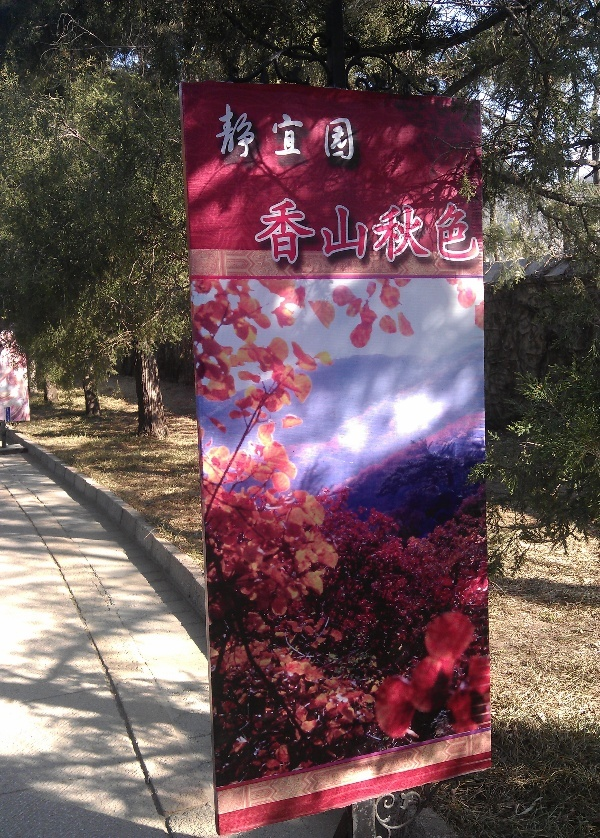text: (257, 197, 272, 266), (273, 197, 288, 266), (289, 197, 304, 266), (305, 197, 320, 266), (321, 197, 336, 266), (337, 197, 352, 266), (353, 197, 368, 266), (369, 197, 384, 266), (385, 197, 400, 266), (401, 197, 416, 266), (417, 197, 432, 266), (433, 197, 448, 266), (449, 197, 464, 266), (465, 197, 479, 266), (225, 103, 240, 165), (241, 103, 256, 165), (257, 103, 272, 165), (273, 103, 288, 165), (289, 103, 304, 165), (305, 103, 320, 165), (321, 103, 336, 165), (337, 103, 352, 165), (216, 103, 224, 165), (353, 103, 359, 165), (254, 197, 256, 266)
